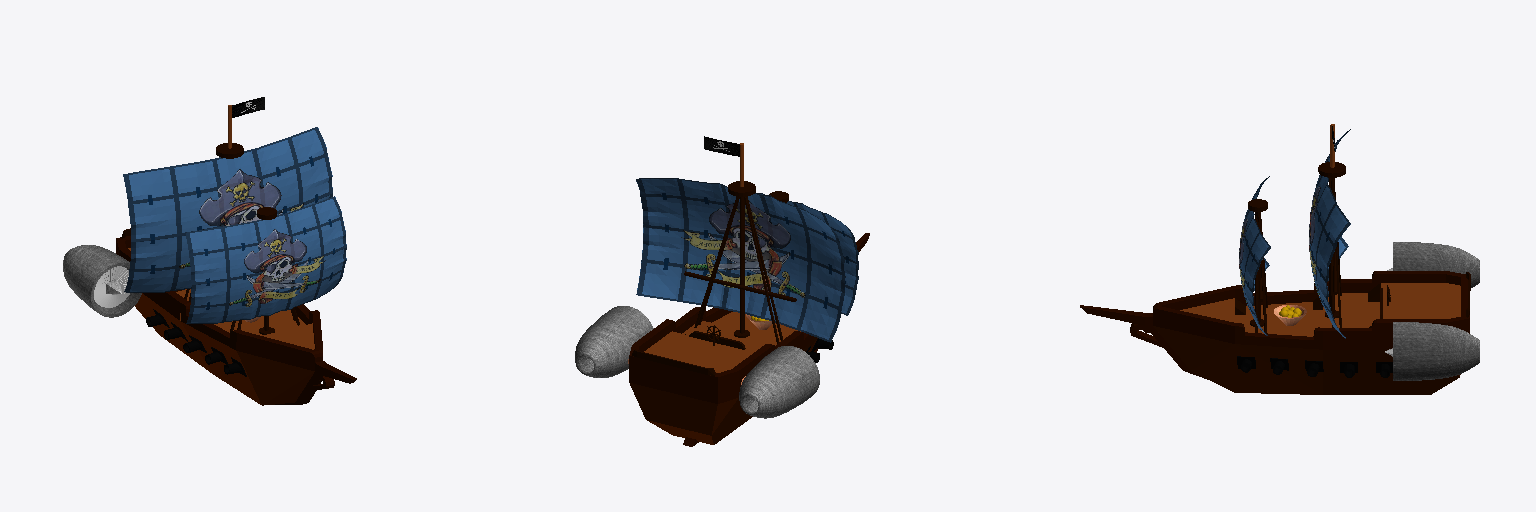
3 renders of one model, left to right at view 1: azimuth 30°, elevation 25°; view 2: azimuth 150°, elevation 25°; view 3: azimuth 270°, elevation 25°, orthographic.
Visible parts, largest first — view 1: Sails, NewBoatBase, Engines, Cannon, NewBoatBaseDetails, Blades; view 2: Sails, NewBoatBase, Engines, NewBoatBaseDetails; view 3: NewBoatBase, Engines, Sails, NewBoatBaseDetails, Cannon.
Part boxes in pixels (bbox=[...]): Sails: bbox=[123, 127, 346, 323]; NewBoatBase: bbox=[116, 236, 356, 405]; Engines: bbox=[63, 245, 141, 317]; Cannon: bbox=[146, 309, 246, 376]; NewBoatBaseDetails: bbox=[121, 143, 299, 334]; Blades: bbox=[94, 266, 129, 307]; Sails: bbox=[636, 178, 858, 342]; NewBoatBase: bbox=[629, 233, 869, 446]; Engines: bbox=[575, 306, 819, 418]; NewBoatBaseDetails: bbox=[632, 181, 796, 375]; NewBoatBase: bbox=[1080, 271, 1469, 394]; Engines: bbox=[1385, 242, 1479, 380]; Sails: bbox=[1239, 129, 1350, 338]; NewBoatBaseDetails: bbox=[1235, 162, 1470, 336]; Cannon: bbox=[1237, 356, 1392, 377].
Size of the model in its own units: 17.61 by 20.34 by 28.1.
12 materials, 4 textured.